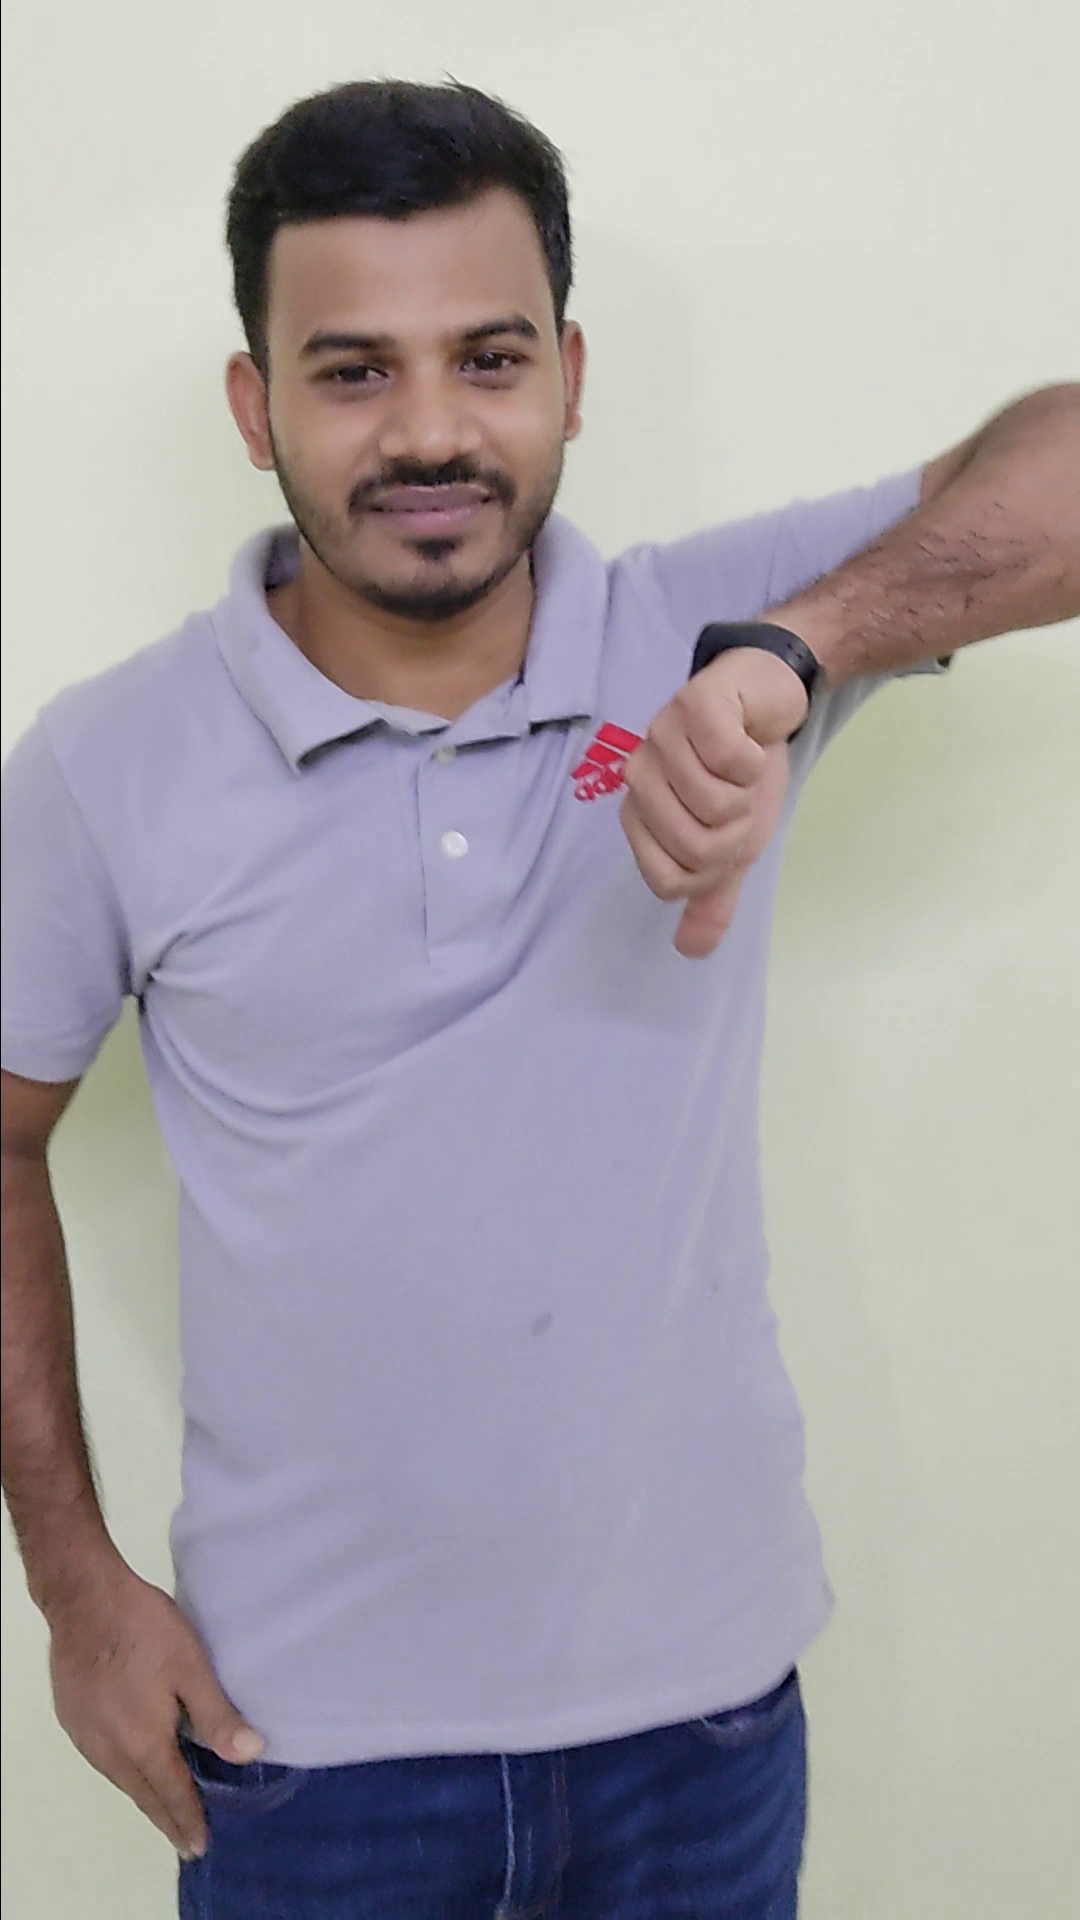Dislike: (601, 604, 828, 978)
None: (29, 1565, 284, 1875)
